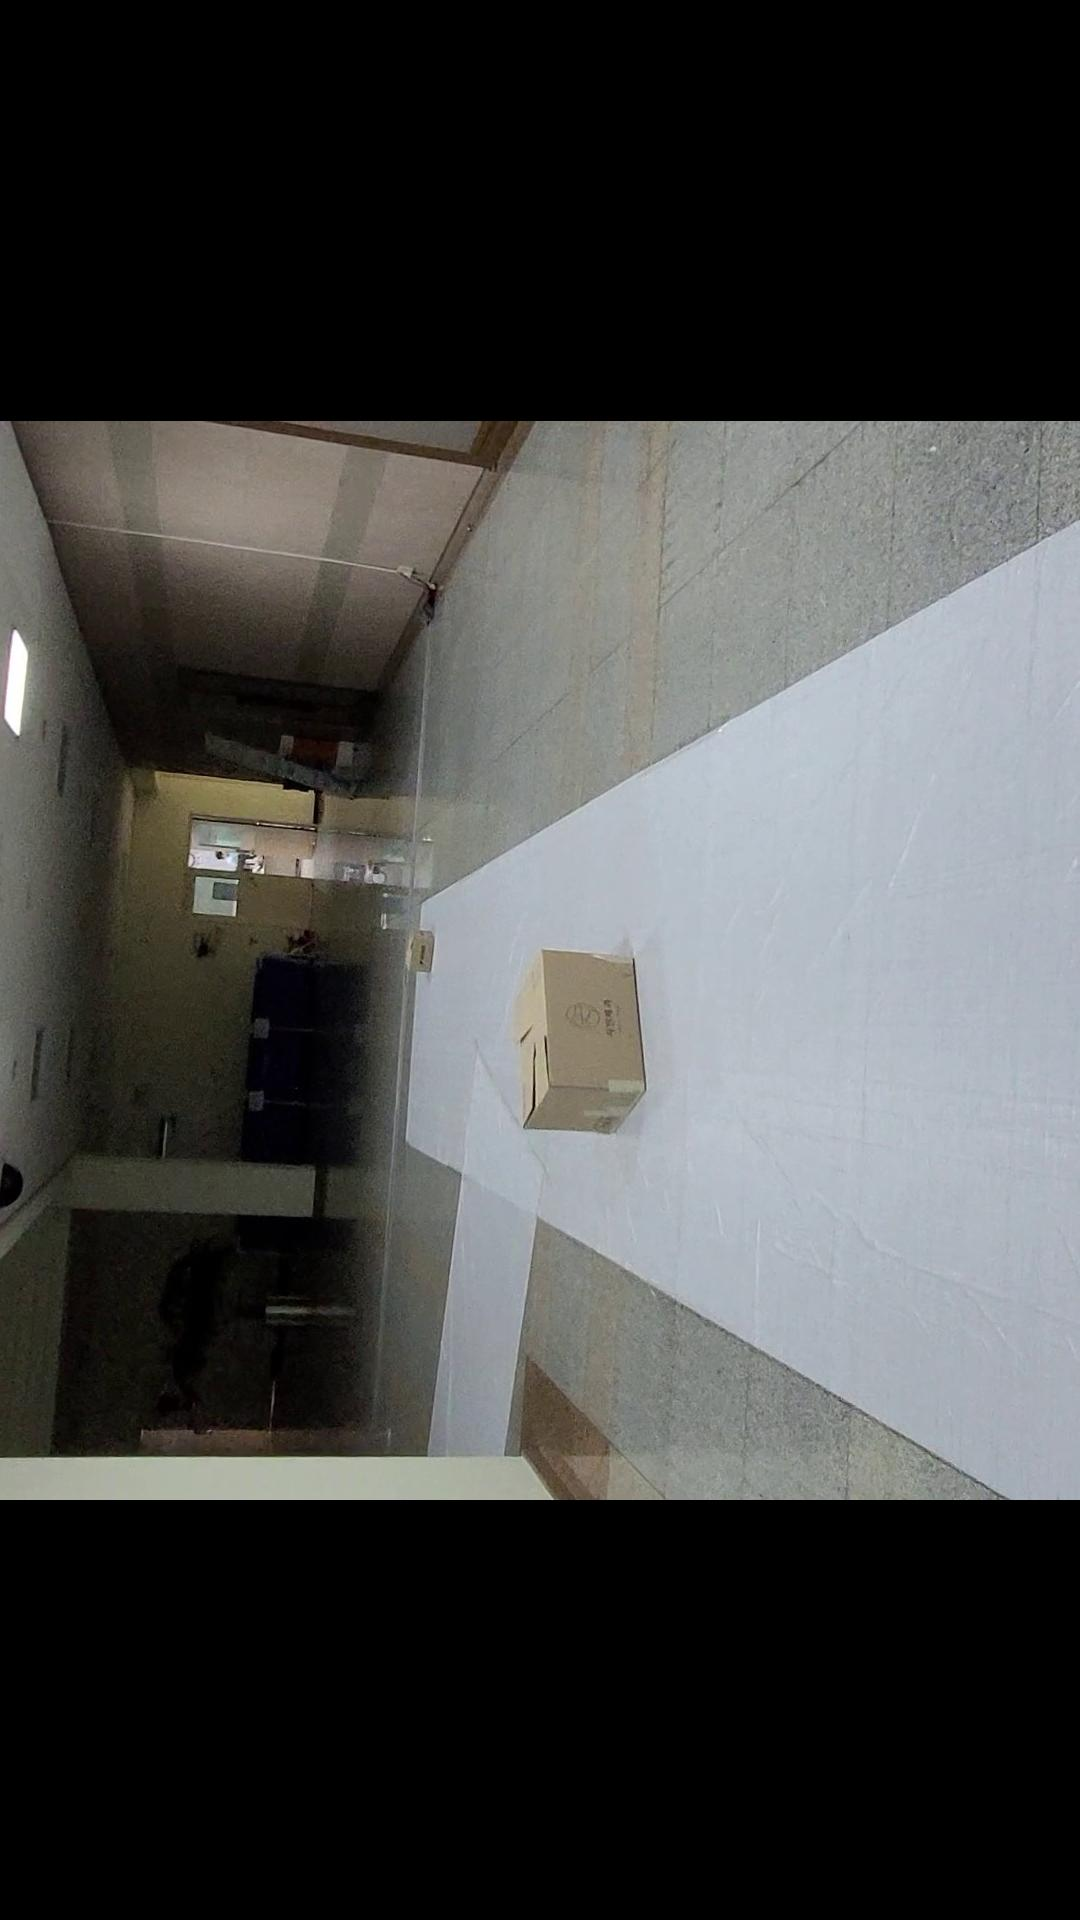Box: (502, 905, 665, 1162), (385, 905, 452, 997)
